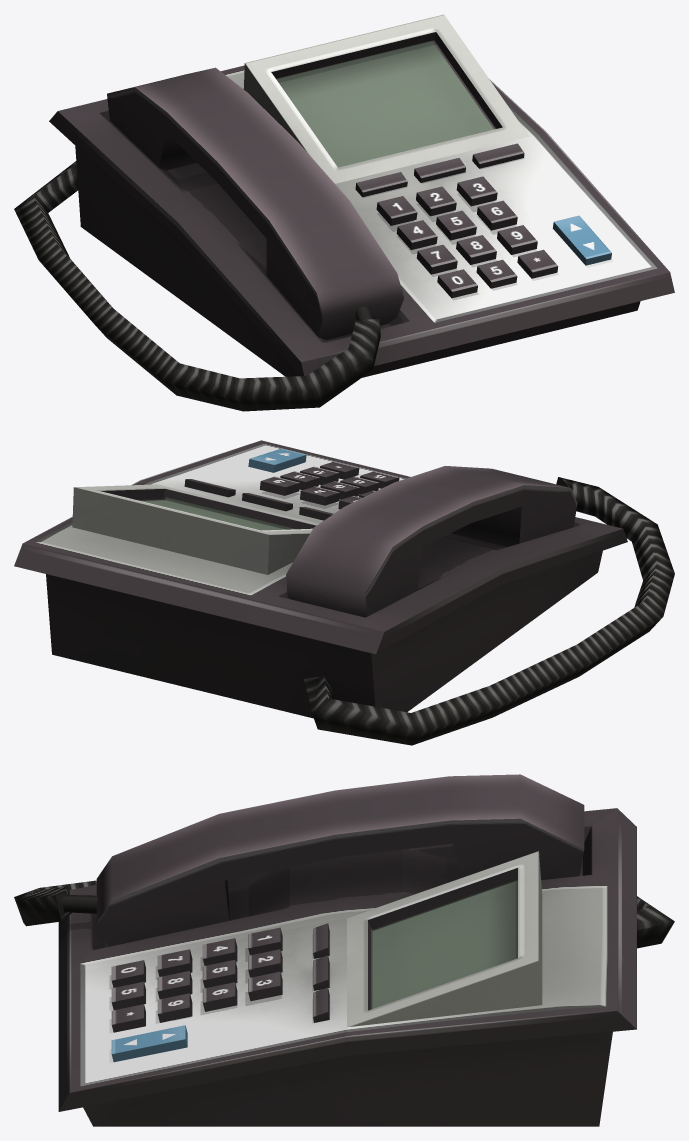
Rendered from telephone.fbx.
3 renders of one model, top to bottom at view 1: azimuth 30°, elevation 25°; view 2: azimuth 150°, elevation 25°; view 3: azimuth 270°, elevation 25°, orthographic. The views are drawn at different scales.
Parts seen in each view (by area): view 1: telephone3; view 2: telephone3; view 3: telephone3.
Boxes of the visible parts, bbox=[...] form: telephone3: bbox=[14, 14, 674, 411]; telephone3: bbox=[14, 440, 674, 745]; telephone3: bbox=[14, 774, 674, 1126].
Bounding box in the file's own units: 11.06 × 3.94 × 12.3.
